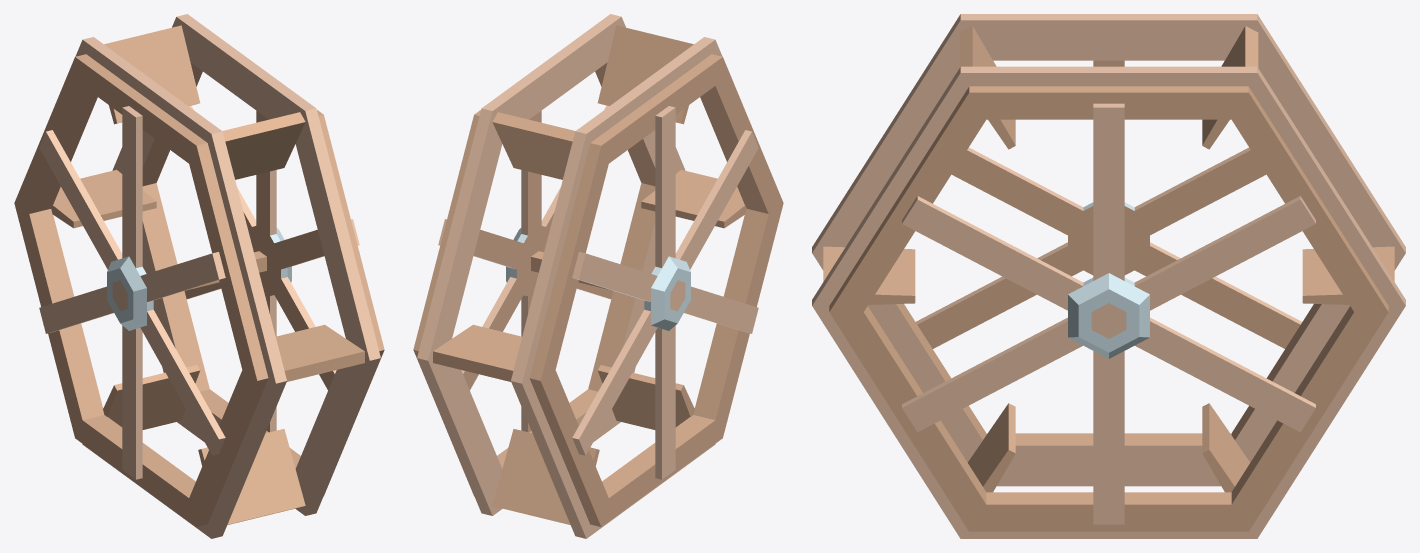
3 renders of one model, left to right at view 1: azimuth 30°, elevation 25°; view 2: azimuth 150°, elevation 25°; view 3: azimuth 270°, elevation 25°, orthographic. The views are drawn at different scales.
Parts seen in each view (by area): view 1: watermill, paddle (×6); view 2: watermill, paddle (×6); view 3: watermill, paddle (×6).
Part boxes in pixels (x1,y1,x2,y2): watermill: [14, 14, 384, 538]; paddle (×6): [51, 25, 364, 524]; watermill: [413, 14, 783, 538]; paddle (×6): [433, 25, 746, 524]; watermill: [812, 14, 1405, 538]; paddle (×6): [823, 26, 1394, 492].
Size of the model in its own units: 0.71 by 1.73 by 2.
